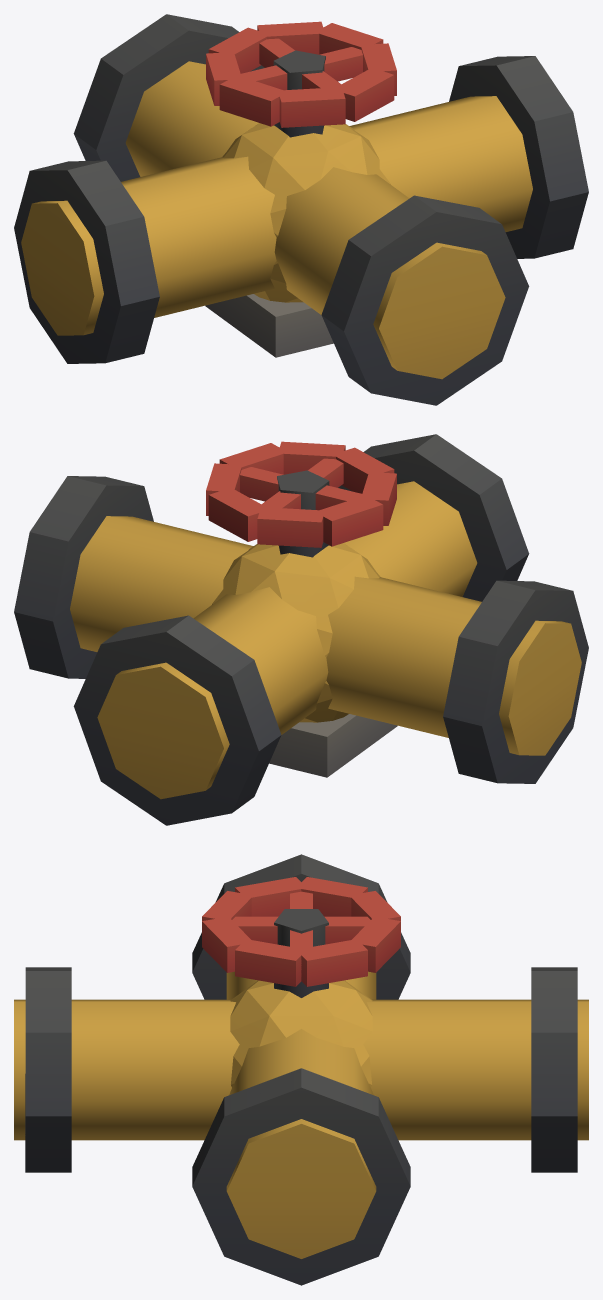
The model's file is logi_pipe_bend.glb.
3 renders of one model, top to bottom at view 1: azimuth 30°, elevation 25°; view 2: azimuth 150°, elevation 25°; view 3: azimuth 270°, elevation 25°, orthographic. The views are drawn at different scales.
Visible parts, largest first — view 1: logi_pipe_bend; view 2: logi_pipe_bend; view 3: logi_pipe_bend.
Part boxes in pixels (<box>): logi_pipe_bend: <box>14,14,588,405</box>; logi_pipe_bend: <box>14,434,588,825</box>; logi_pipe_bend: <box>14,854,588,1285</box>.
Bounding box in the file's own units: 2 × 1 × 2.
1 material, 1 textured.
